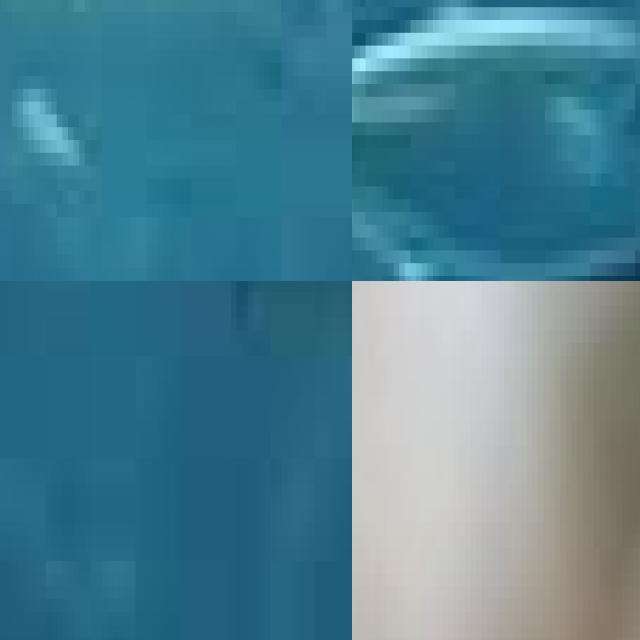fish: (0, 0, 352, 281), (0, 281, 236, 420)
